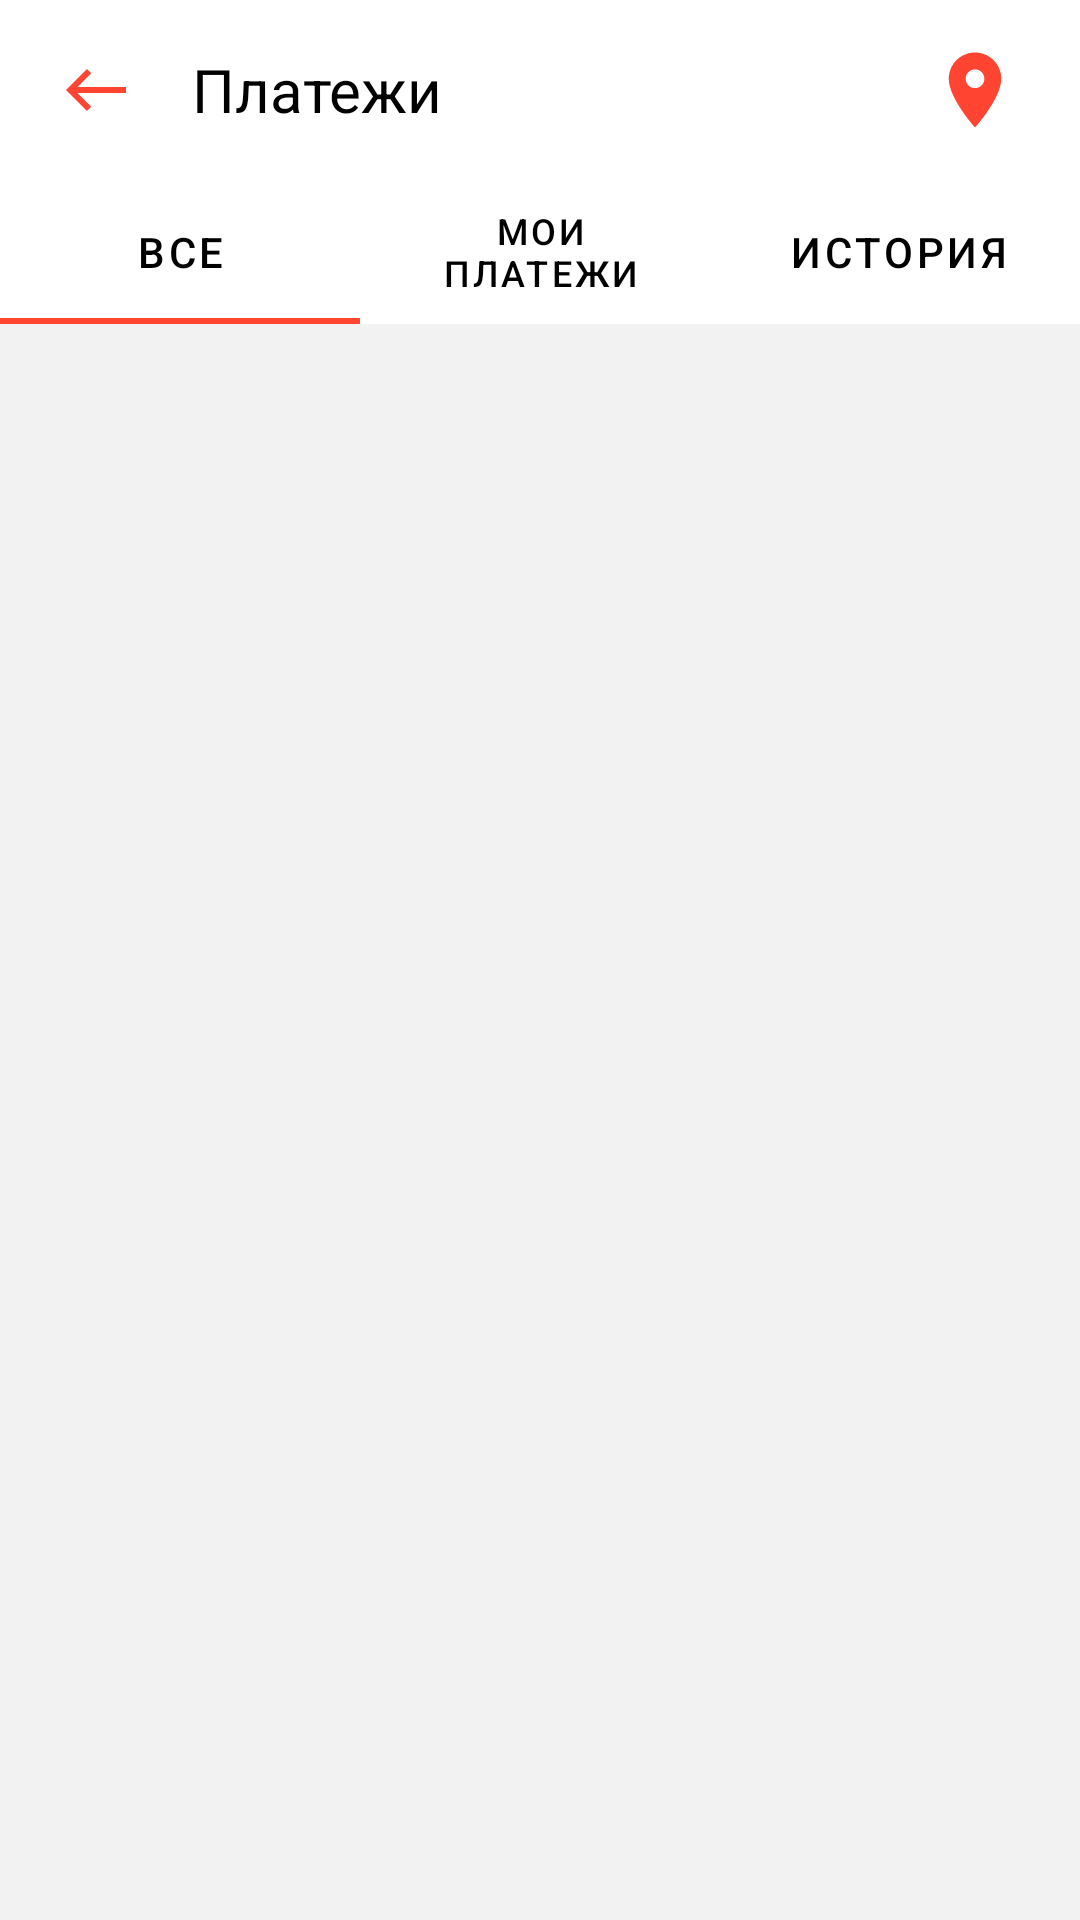

Icon bounding boxes for this 1080*1920 phone screenshot, format (x1, y1, x2, y2):
kaspi location fake: (948, 52, 1002, 127)
